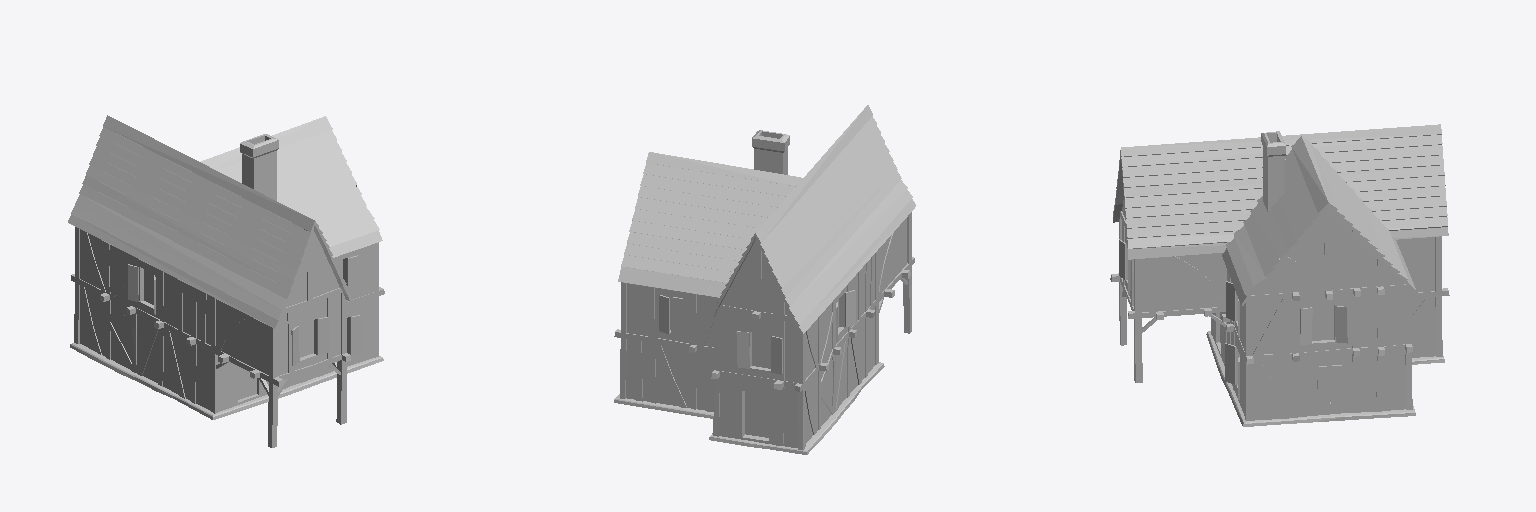
Rendered from Medieval_House.obj.
The picture shows the model from 3 angles: view 1: azimuth 30°, elevation 25°; view 2: azimuth 150°, elevation 25°; view 3: azimuth 270°, elevation 25°; orthographic projection.
Parts seen in each view (by area): view 1: Mesh_Box291; view 2: Mesh_Box291; view 3: Mesh_Box291.
Boxes of the visible parts, <box> form: Mesh_Box291: <box>68,115,384,447</box>; Mesh_Box291: <box>614,105,915,454</box>; Mesh_Box291: <box>1110,124,1449,426</box>.
Size of the model in its own units: 300 by 302 by 392.